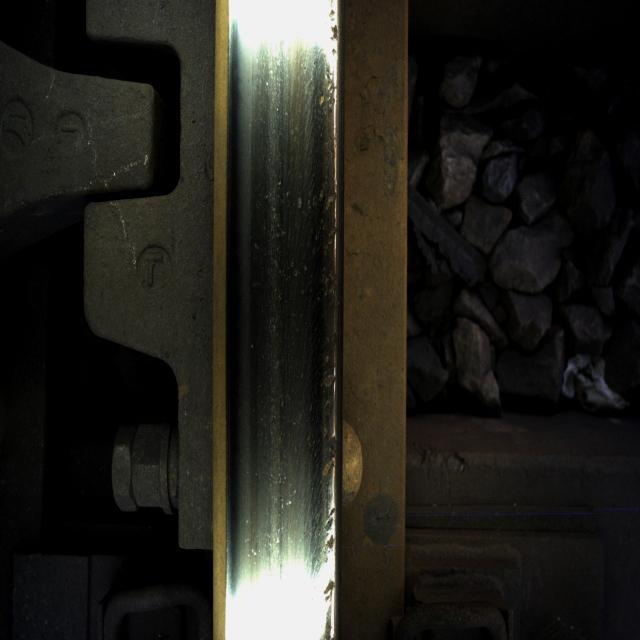crack: (254, 26, 345, 562)
